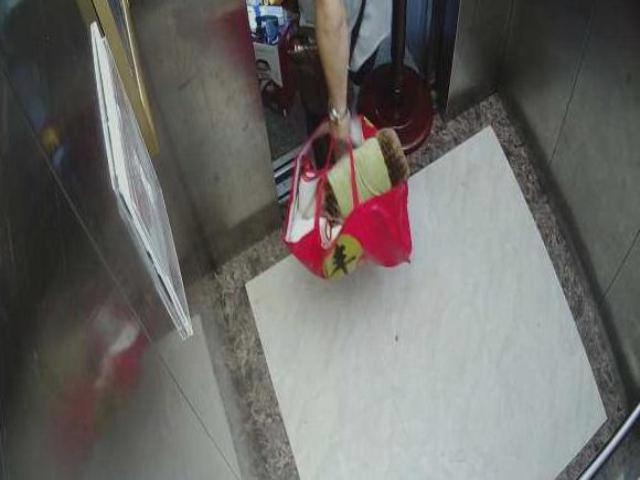bag: (293, 127, 412, 289)
